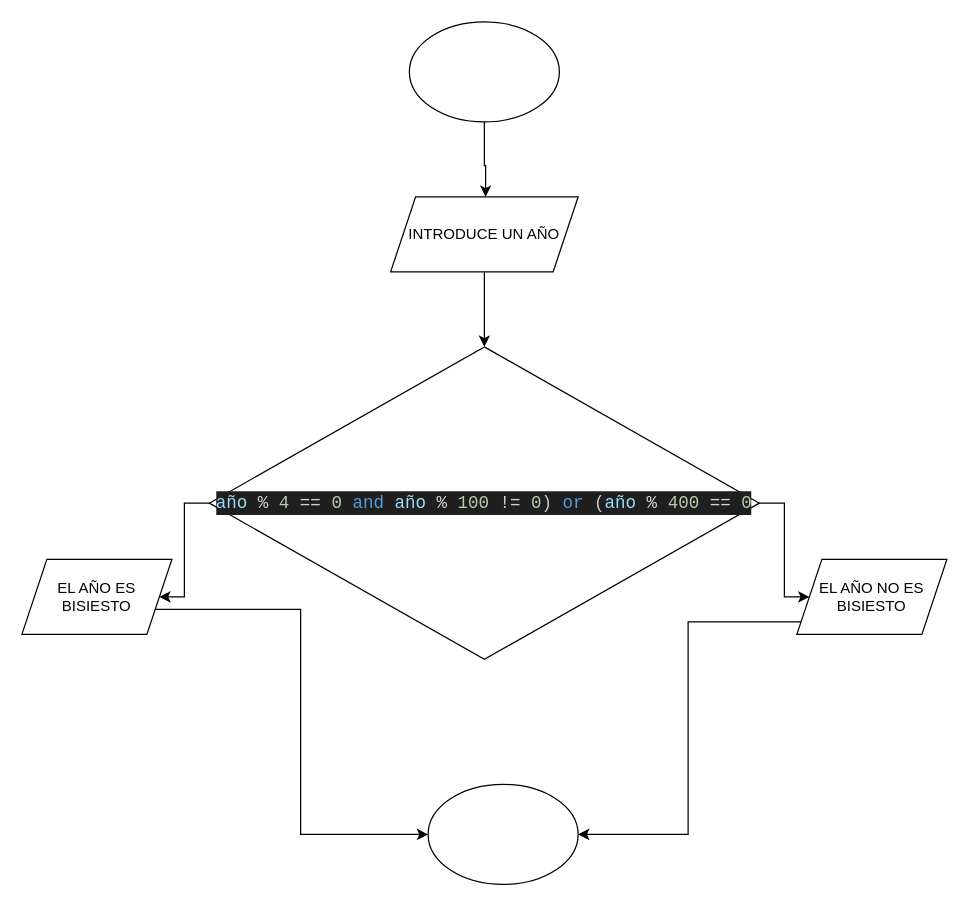
The diagram is 969 pixels wide and 906 high, and some of its shapes have lost their labels. The centre of each missing label's shape, as x and y in pixels:
"FIN" belongs at [502,833].
"INICIO" belongs at [483,71].
